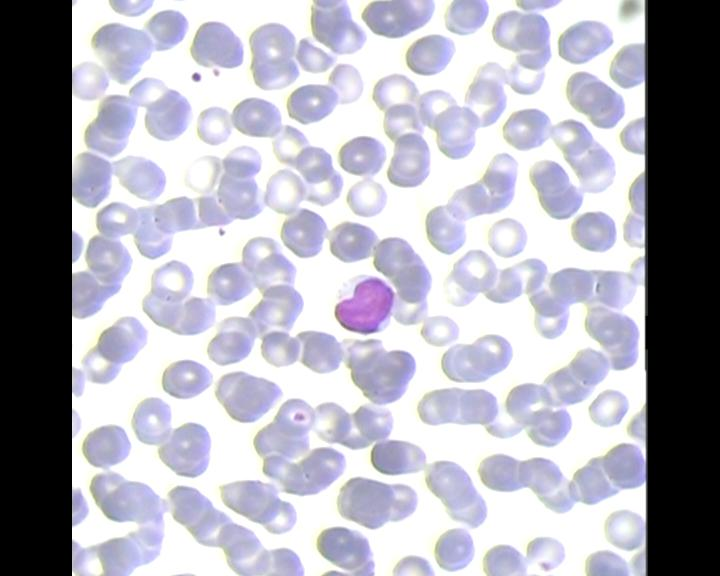lymp: (331, 273, 404, 339)
